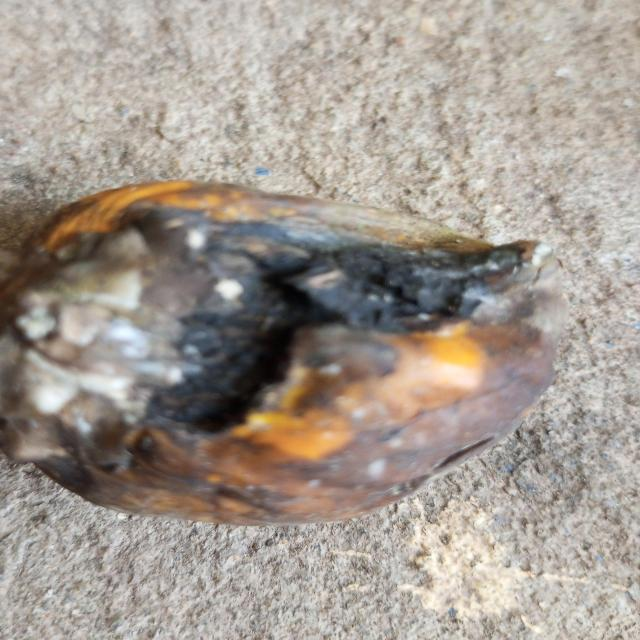damaged: (0, 180, 557, 531)
